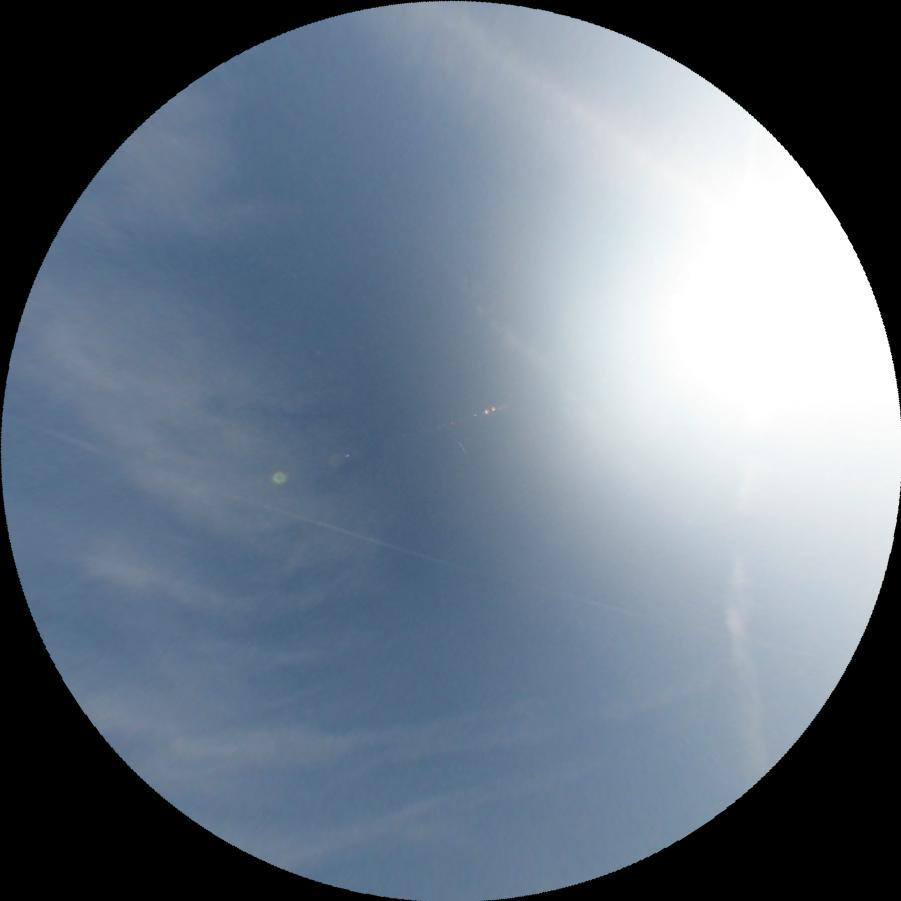contrail veryold: (317, 0, 726, 282), (204, 656, 737, 790), (716, 556, 774, 783)
contrail young: (0, 410, 841, 678)
